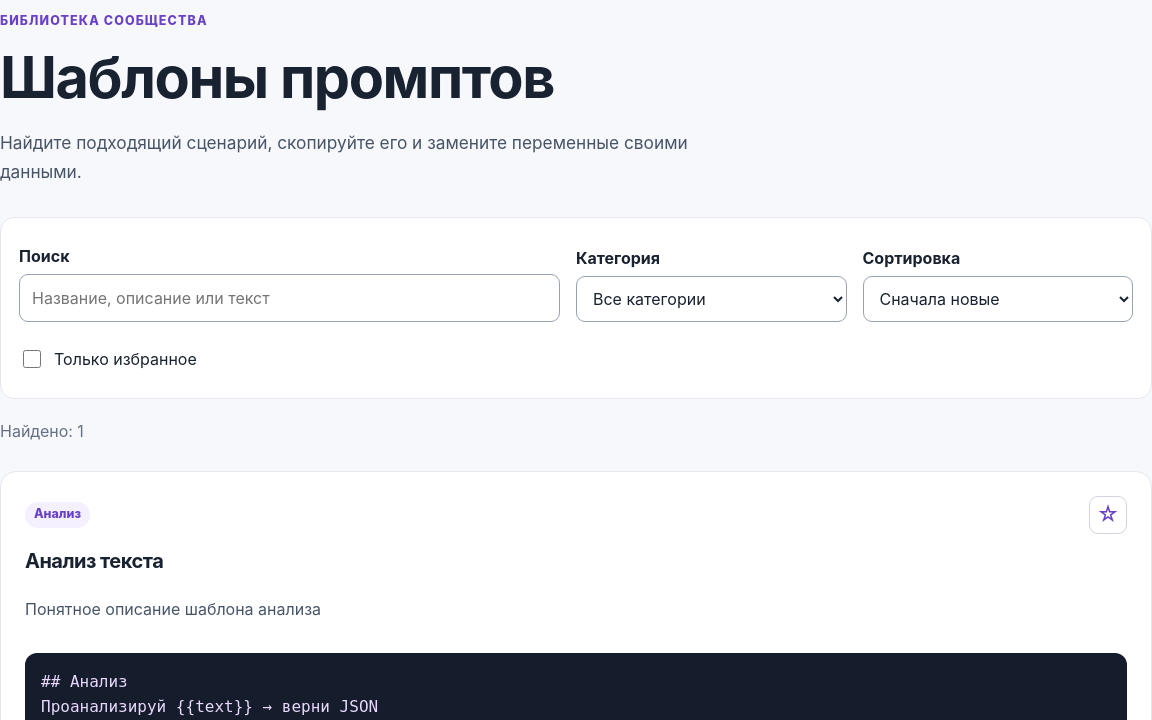
страницы › показывает пустой результат фильтра и ошибку загрузки без падения
Expected: the heading "Анализ текста" is shown, [25,549,163,573]
Type "ничего такого нет" into the field labelled "Поиск" at (290, 298), box [19,274,560,322]
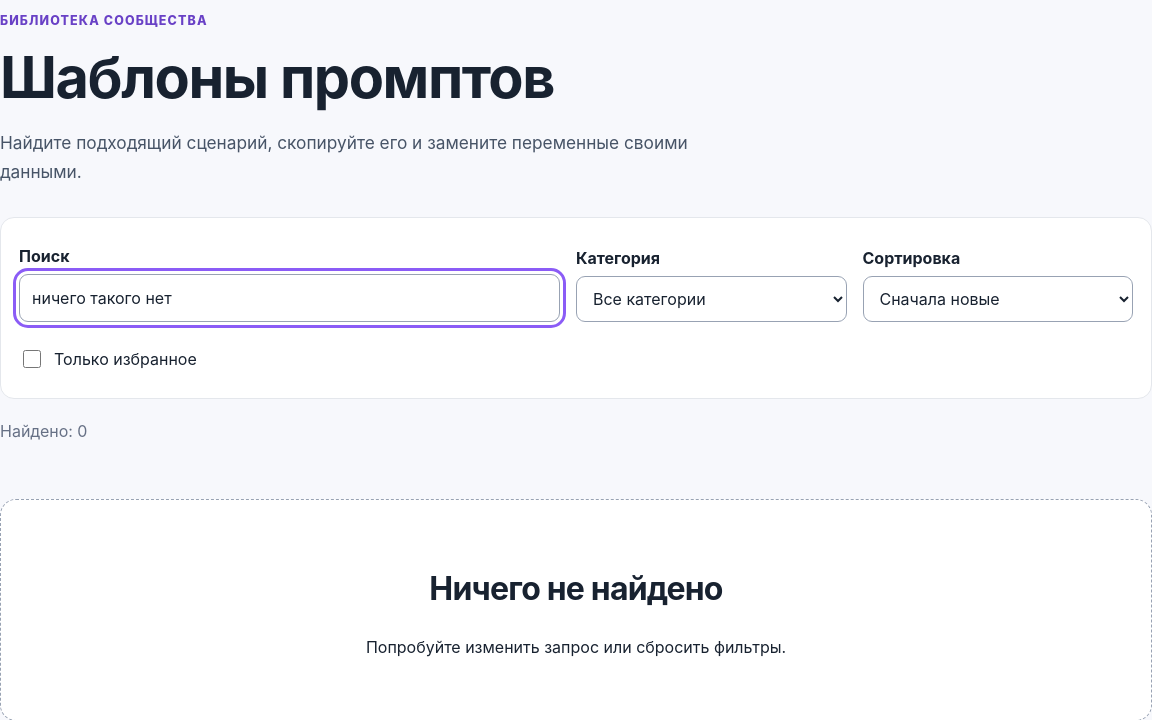
Now the heading "Ничего не найдено" is shown, box [429,569,723,608]
